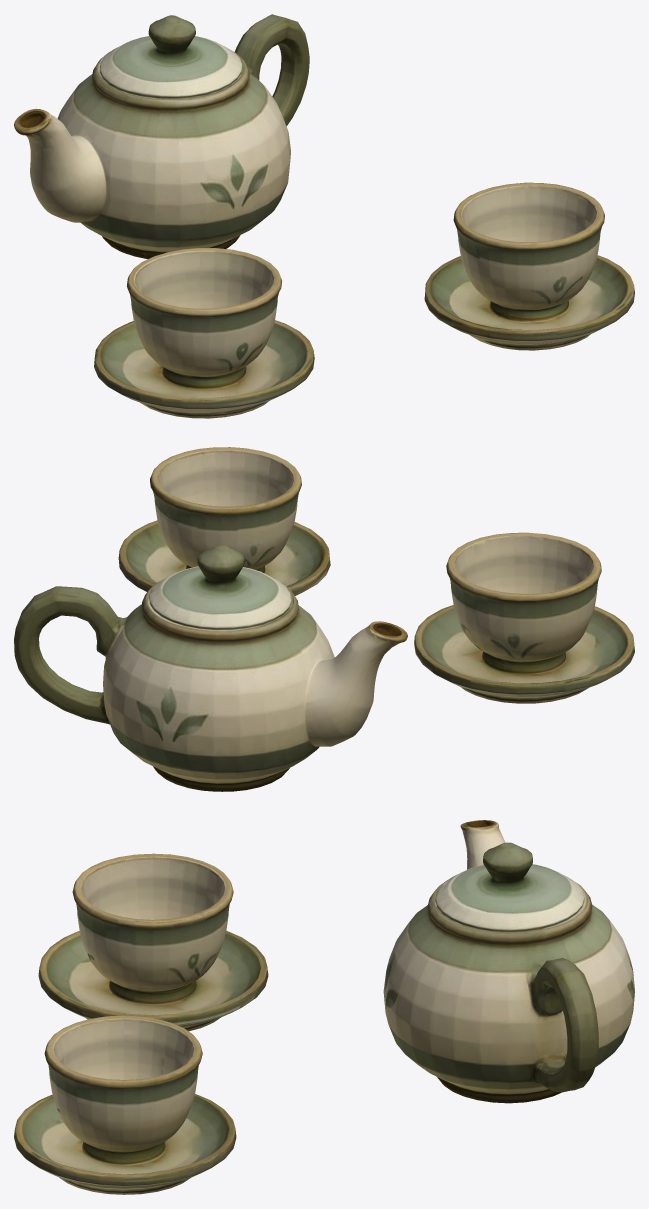
3 views of the same model, one above another, from view 1: azimuth 30°, elevation 25°; view 2: azimuth 150°, elevation 25°; view 3: azimuth 270°, elevation 25° (orthographic). The views are drawn at different scales.
Visible parts, largest first — view 1: node_0; view 2: node_0; view 3: node_0.
Boxes of the visible parts, left/top/right/bottom form: node_0: left=14, top=14, right=634, bottom=418; node_0: left=14, top=447, right=634, bottom=791; node_0: left=14, top=820, right=634, bottom=1194.
Size of the model in its own units: 0.9183 by 0.3765 by 0.9291.
Materials: 1 (1 with a texture image).
